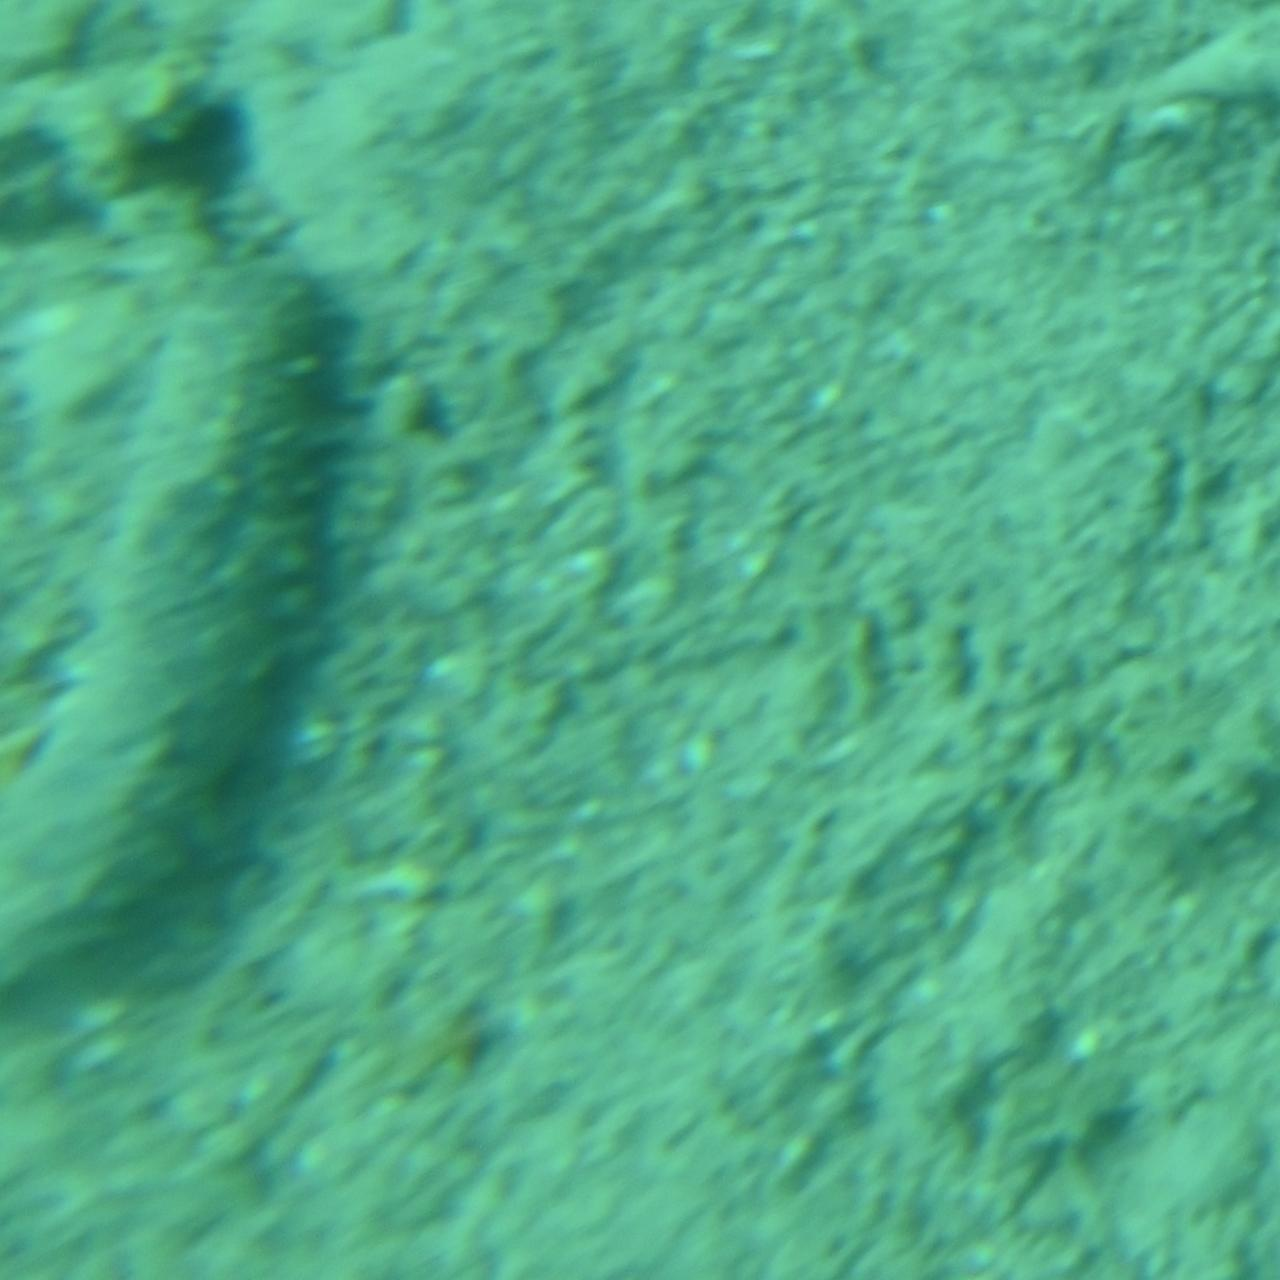Holothuria tubulosa: (2, 252, 366, 1028)
